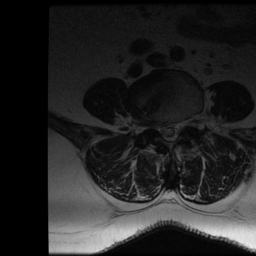CCS_normal: (166, 116, 173, 145)
LFS_normal: (181, 111, 189, 133)
LLS_normal: (173, 116, 180, 141)
RFS_normal: (151, 114, 159, 136)
RLS_normal: (159, 116, 166, 140)
